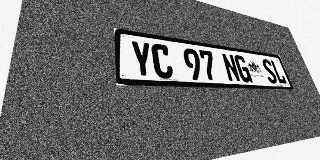7: (198, 50, 219, 81)
9: (182, 47, 204, 80)
C: (151, 43, 174, 79)
G: (233, 55, 253, 83)
L: (270, 60, 287, 84)
N: (221, 53, 241, 82)
S: (260, 58, 279, 84)
Y: (130, 40, 154, 78)
